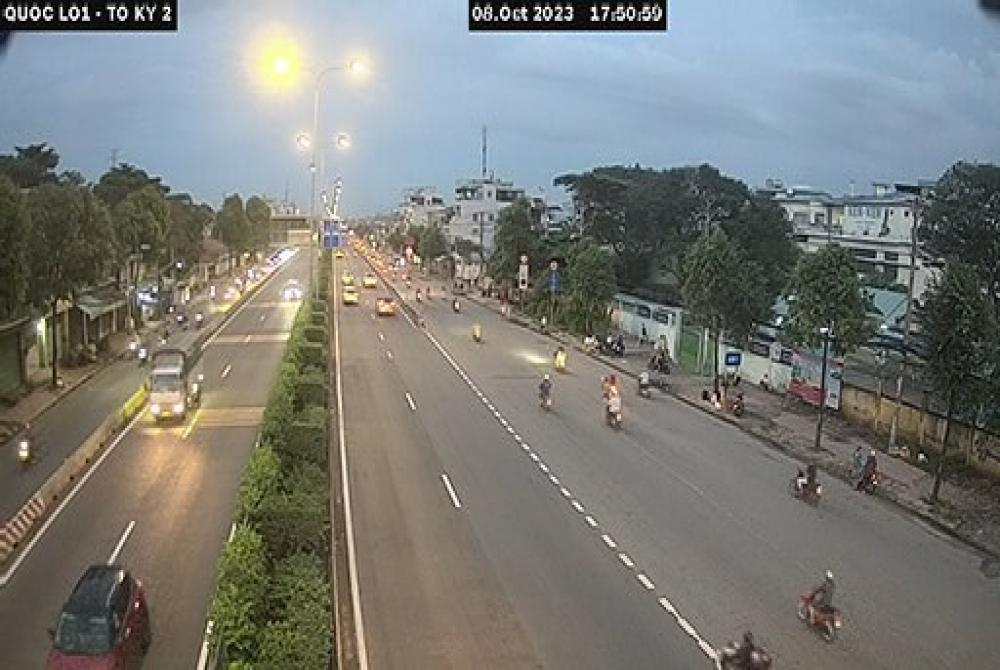car: (39, 558, 156, 670)
truck: (147, 332, 203, 425)
